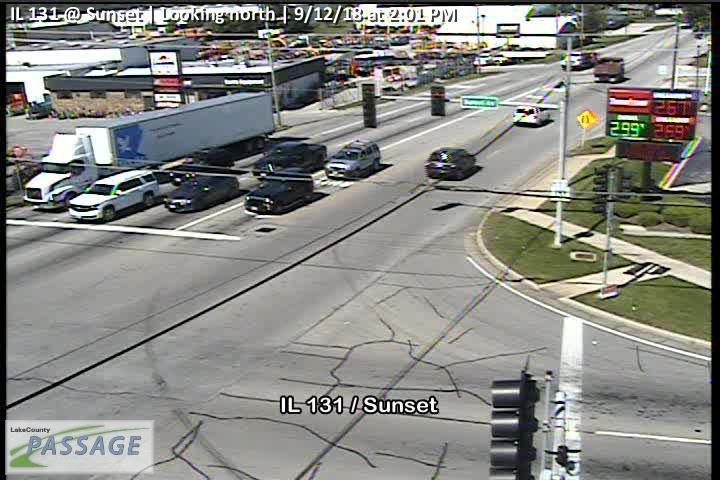SUV: (68, 169, 159, 221), (324, 138, 382, 181)
Sedan: (165, 173, 239, 214), (244, 174, 314, 215), (426, 146, 476, 180), (511, 101, 551, 127)
Truck: (22, 92, 274, 209), (253, 141, 328, 176)
